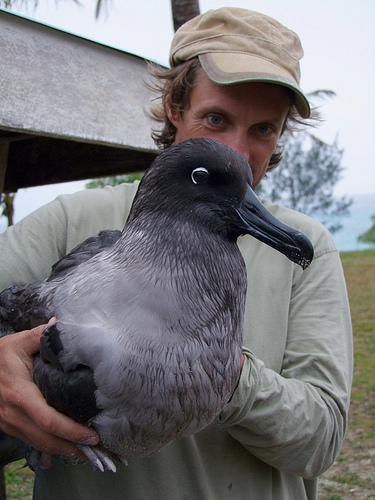003.Sooty_Albatross: (2, 138, 314, 474)
